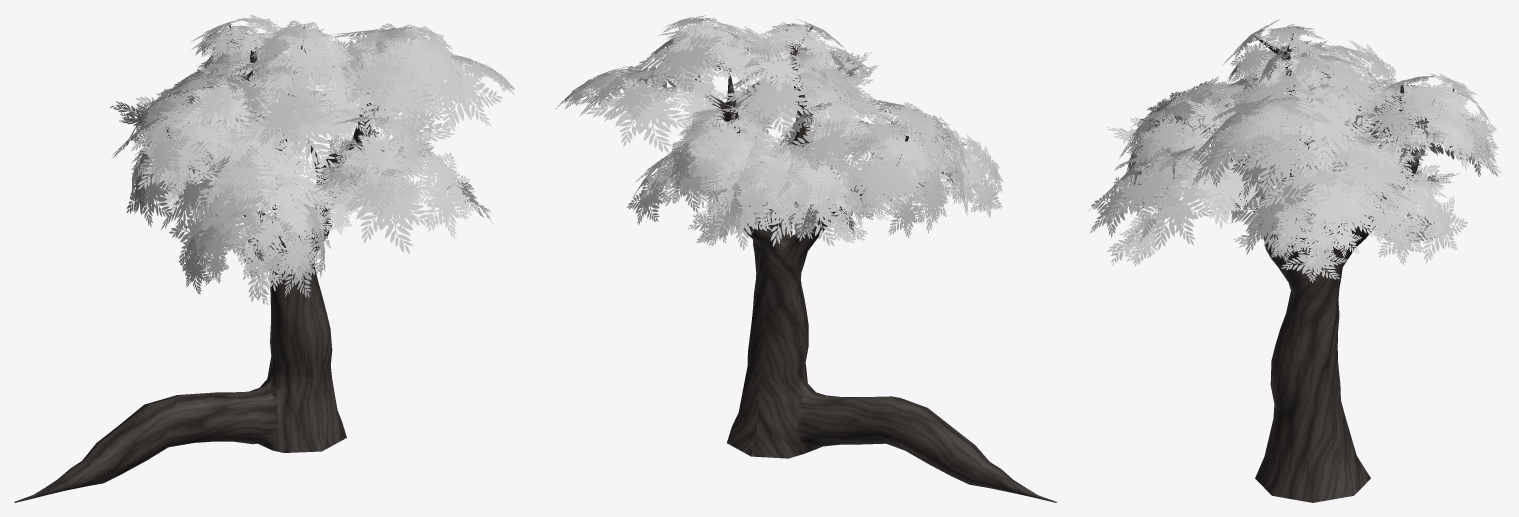
The model's file is tree_04.fbx.
3 views of the same model, side by side, from view 1: azimuth 30°, elevation 25°; view 2: azimuth 150°, elevation 25°; view 3: azimuth 270°, elevation 25° (orthographic). The views are drawn at different scales.
Parts seen in each view (by area): view 1: Tree_04_LOD0; view 2: Tree_04_LOD0; view 3: Tree_04_LOD0.
Boxes of the visible parts, box(x1,y1,x2,y2) form: Tree_04_LOD0: box(14, 14, 514, 502); Tree_04_LOD0: box(555, 15, 1056, 502); Tree_04_LOD0: box(1088, 19, 1502, 502).
Size of the model in its own units: 32.08 by 25.27 by 21.33.
